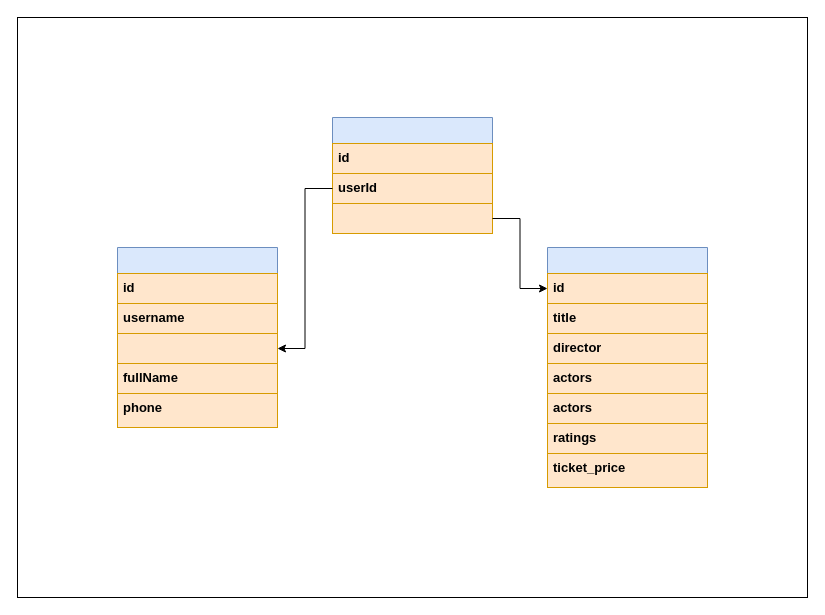
Some shapes in this 825 by 615 pixel diagram are drawn without their labels. Here are the shapes that lost their labels. From the top down, the box of each, then its label:
(332, 116, 492, 234): Booking Model
(332, 202, 492, 234): movieId
(116, 246, 278, 428): User Model
(116, 332, 278, 364): password
(546, 246, 708, 488): Movies Model
